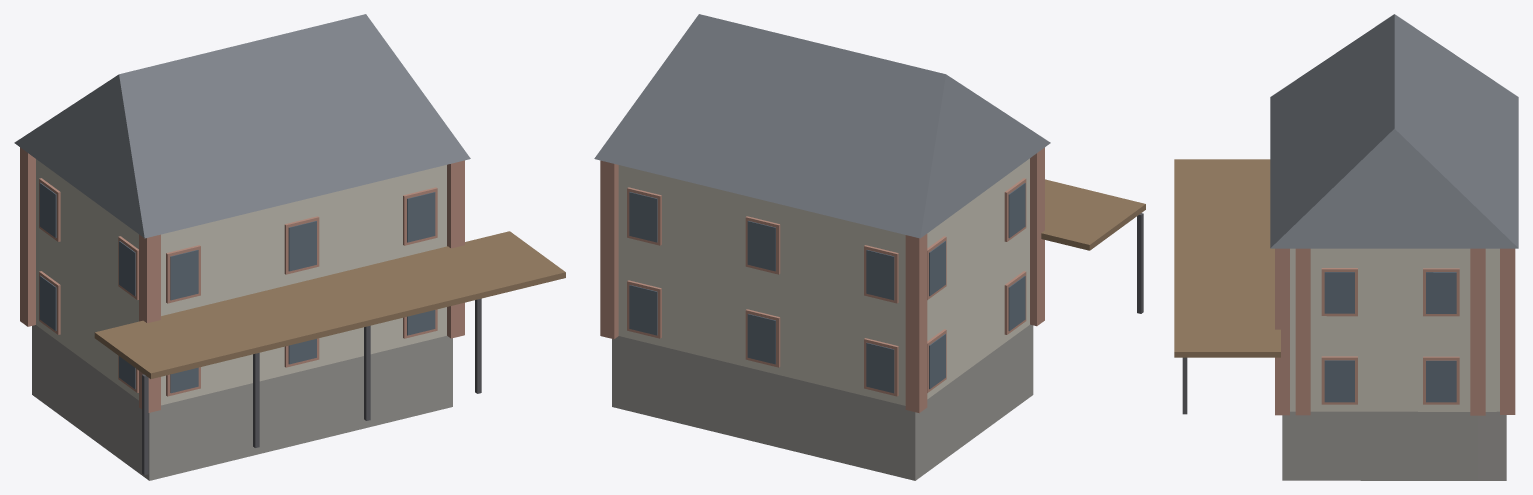
The model's file is landmark-station-347879101.glb.
3 views of the same model, side by side, from view 1: azimuth 30°, elevation 25°; view 2: azimuth 150°, elevation 25°; view 3: azimuth 270°, elevation 25° (orthographic). The views are drawn at different scales.
Visible parts, largest first — view 1: building; view 2: building; view 3: building.
Boxes of the visible parts, x1,y1,x2,y2 form: building: (14,14,565,480); building: (594,14,1145,480); building: (1174,14,1518,480).
Size of the model in its own units: 15.02 by 12.28 by 11.3.
